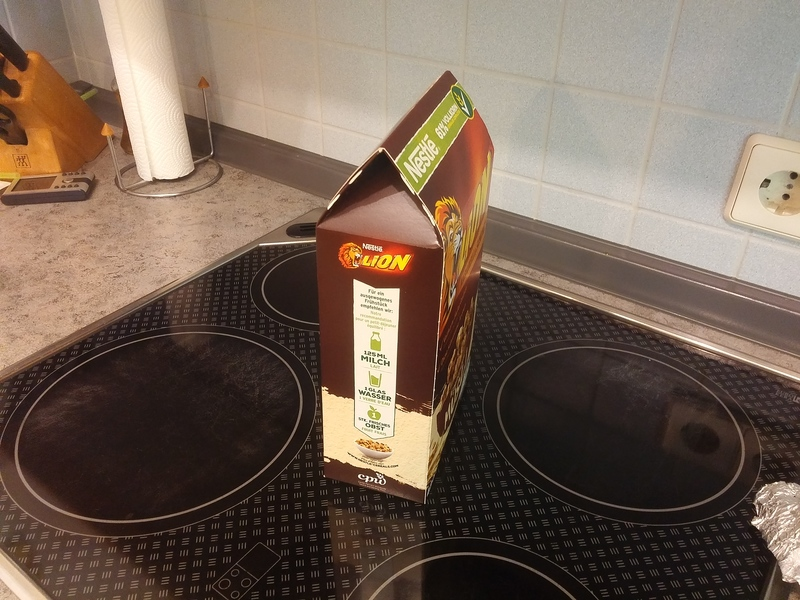cereals: (316, 67, 496, 507)
